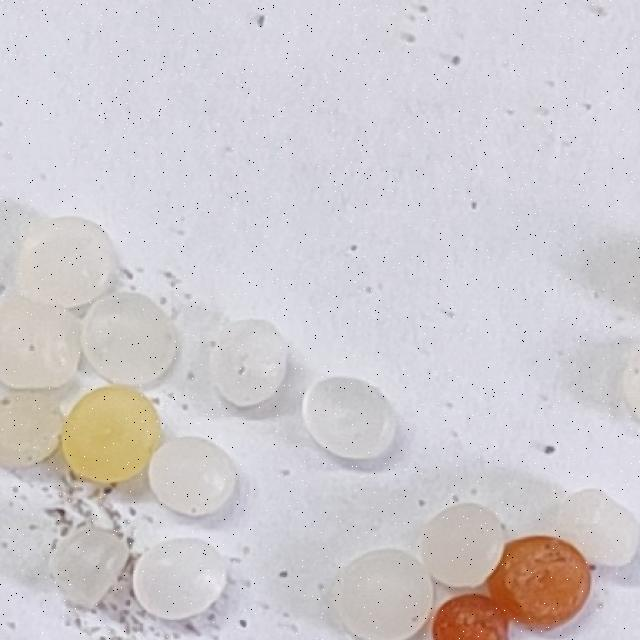beads: (40, 367, 171, 501), (116, 519, 237, 640), (481, 526, 600, 640), (135, 420, 249, 534), (76, 289, 184, 394), (36, 511, 141, 616), (411, 497, 514, 598), (15, 215, 117, 311), (339, 549, 435, 640), (207, 318, 290, 410), (0, 297, 80, 390), (303, 379, 396, 459), (0, 391, 63, 468), (434, 597, 509, 640), (1, 1, 1, 1)
